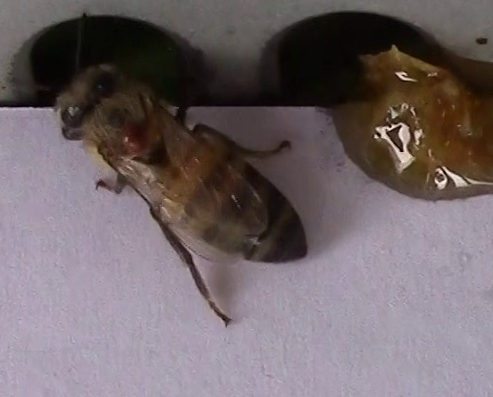Varroa destructor: (111, 112, 162, 161)
